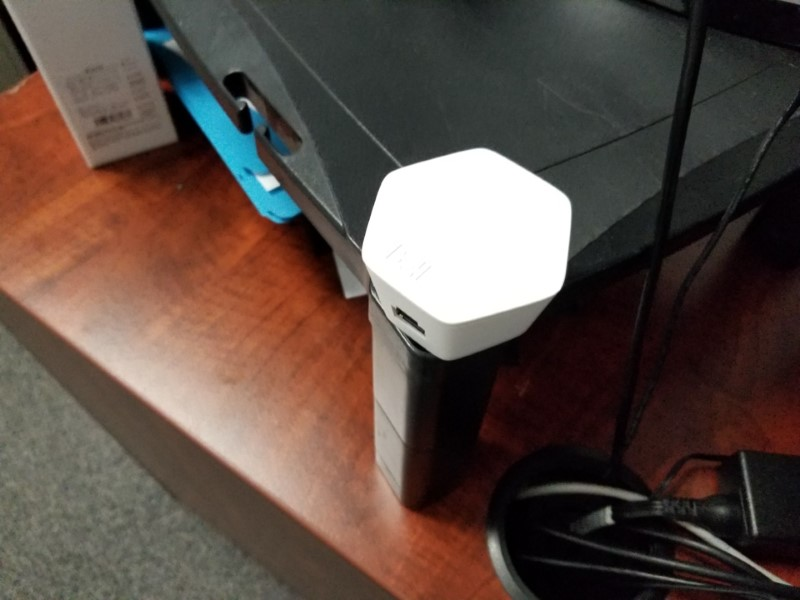pod: (358, 147, 578, 363)
